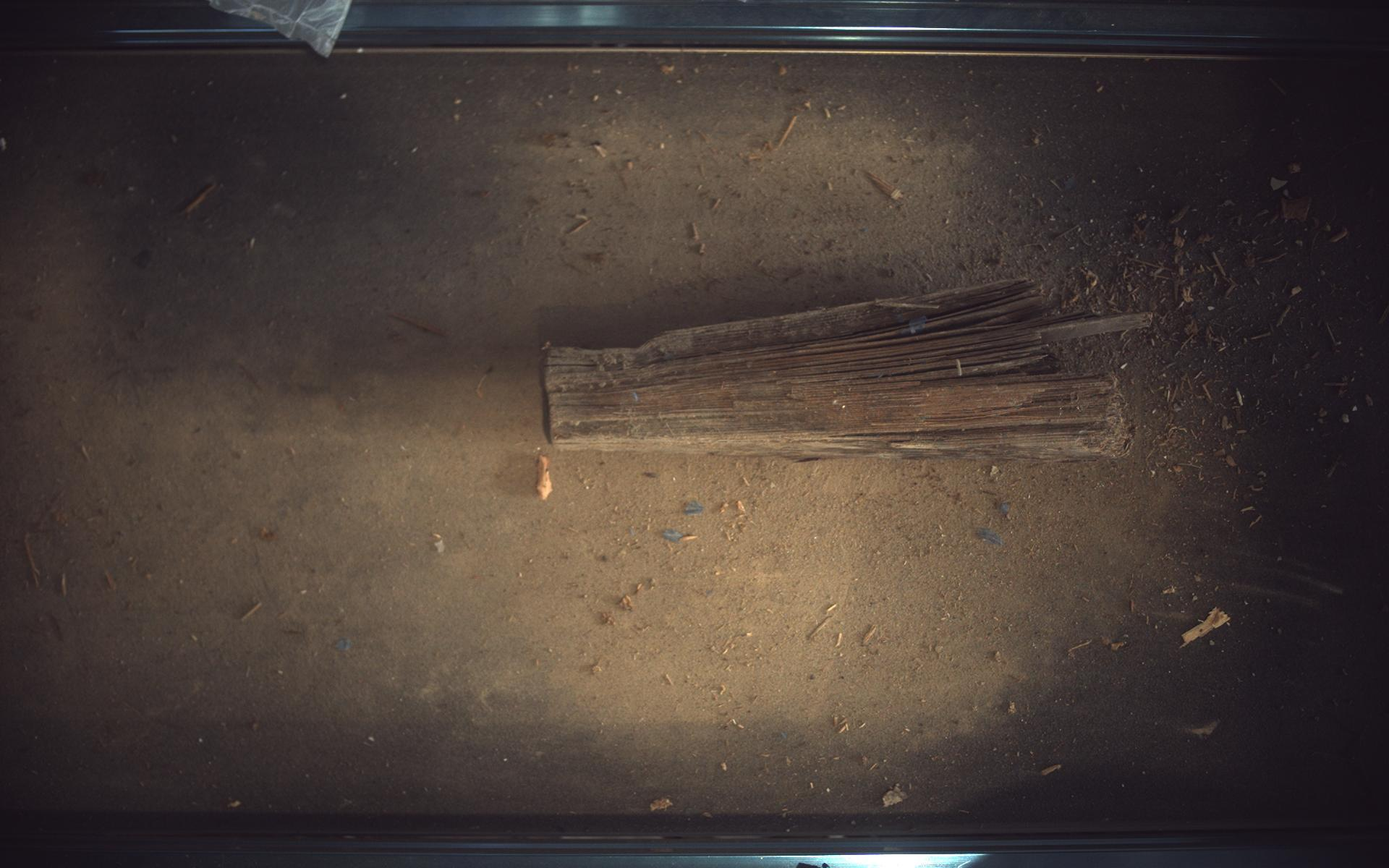wood: (545, 279, 1154, 460)
